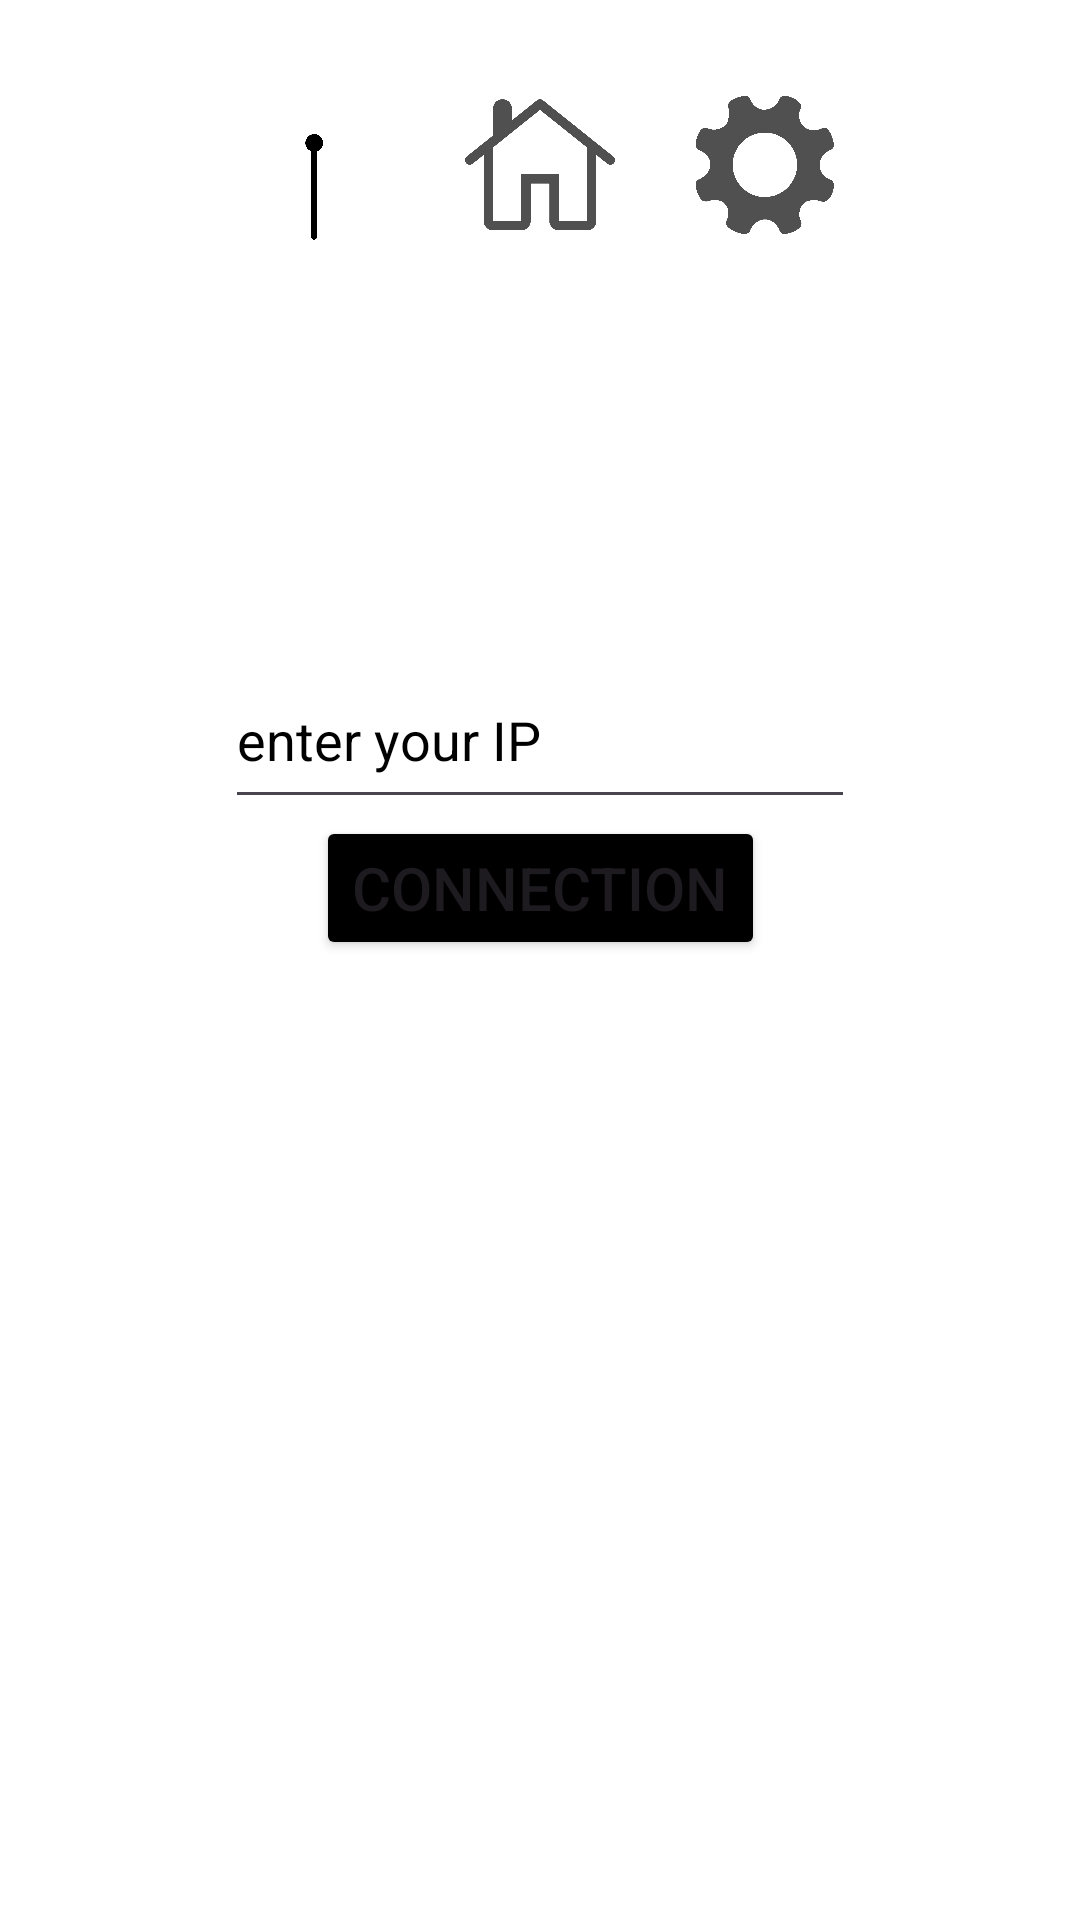

Icon click points for this 1080 x 1920 phone screenshot, format (x=x, y=y):
setting off: (x=765, y=165)
